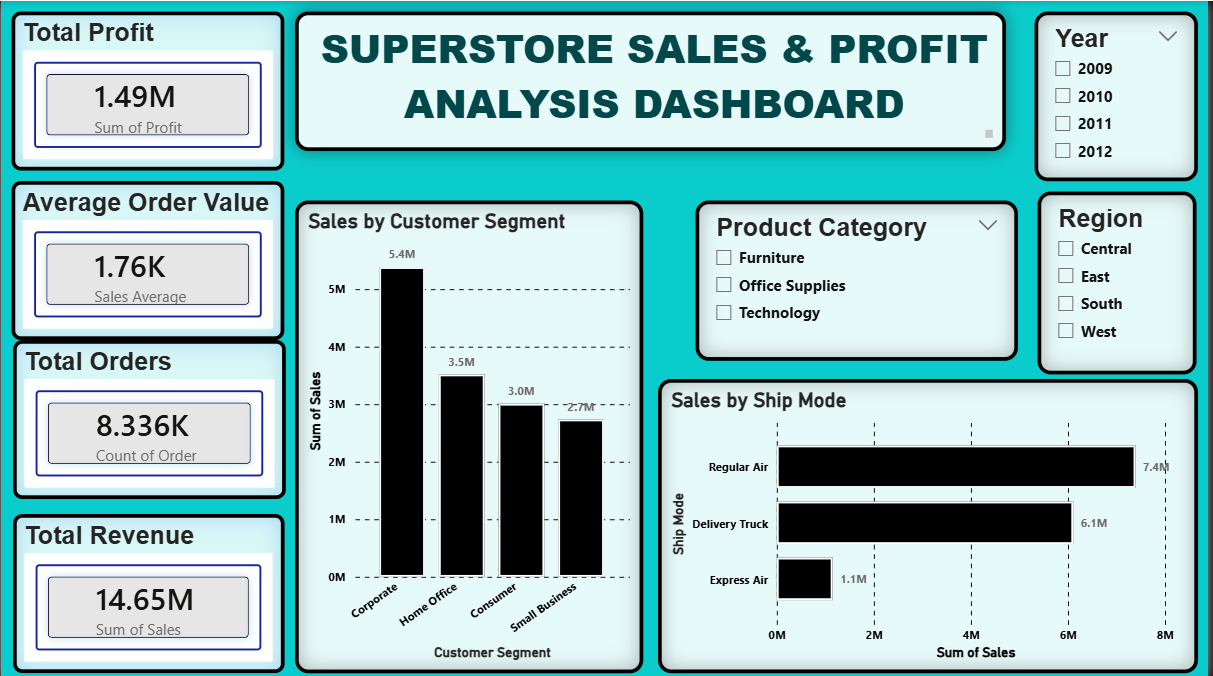

The dashboard page shown, as its layout file describes it:
{"tool":"powerbi","page":{"name":"Overview","canvas":[1280,720],"ordinal":0},"visuals":[{"type":"cardVisual","title":"Total Revenue","fields":{"Data":["Sum(Sample - Superstore Sales (Excel).Sales)"]},"box":[12.7,544,287.9,168.6],"z":0},{"type":"cardVisual","title":"Total Orders","fields":{"Data":["CountNonNull(Sample - Superstore Sales (Excel).Order ID)"]},"box":[12.7,359.5,289.5,168.6],"z":1000},{"type":"cardVisual","title":"Total Profit","fields":{"Data":["Sum(Sample - Superstore Sales (Excel).Profit)"]},"box":[11.1,11.1,289.5,168.6],"z":2000},{"type":"cardVisual","title":"Average Order Value ","fields":{"Data":["Avg(Sample - Superstore Sales (Excel).Sales)"]},"box":[11.1,190.9,289.5,168.6],"z":3000},{"type":"slicer","fields":{"Values":["Sample - Superstore Sales (Excel).Order Date.Variation.Date Hierarchy.Year"]},"box":[1095.9,11.1,173.4,179.7],"z":4000},{"type":"slicer","fields":{"Values":["Sample - Superstore Sales (Excel).Region"]},"box":[1099.1,202,168.6,194.1],"z":5000},{"type":"slicer","fields":{"Values":["Sample - Superstore Sales (Excel).Product Category"]},"box":[736.5,211.6,342,170.2],"z":6000},{"type":"clusteredBarChart","title":"Sales by Ship Mode","fields":{"Y":["Sum(Sample - Superstore Sales (Excel).Sales)"],"Category":["Sample - Superstore Sales (Excel).Ship Mode"]},"box":[696.7,400.8,572.6,311.8],"z":7000},{"type":"clusteredColumnChart","title":" Sales by Customer Segment","fields":{"Category":["Sample - Superstore Sales (Excel).Customer Segment"],"Y":["Sum(Sample - Superstore Sales (Excel).Sales)"]},"box":[311.8,211.6,369,501],"z":8000},{"type":"textbox","title":"SUPERSTORE    SALES & PROFIT ANALYSIS DASHBOARD","box":[311.8,11.1,753.9,147.9],"z":9000}]}

Visuals, with their boxes in screenshot pixels (x1, y1, x2, y2), scaled from the page's 1280x720 canvas onto the 1213x676 screenshot:
"Total Revenue" cardVisual: [x1=12, y1=511, x2=285, y2=669]
"Total Orders" cardVisual: [x1=12, y1=338, x2=286, y2=496]
"Total Profit" cardVisual: [x1=11, y1=10, x2=285, y2=169]
"Average Order Value " cardVisual: [x1=11, y1=179, x2=285, y2=338]
slicer - Sample - Superstore Sales (Excel).Order Date.Variation.Date Hierarchy.Year: [x1=1039, y1=10, x2=1203, y2=179]
slicer - Sample - Superstore Sales (Excel).Region: [x1=1042, y1=190, x2=1201, y2=372]
slicer - Sample - Superstore Sales (Excel).Product Category: [x1=698, y1=199, x2=1022, y2=358]
"Sales by Ship Mode" clusteredBarChart: [x1=660, y1=376, x2=1203, y2=669]
" Sales by Customer Segment" clusteredColumnChart: [x1=295, y1=199, x2=645, y2=669]
"SUPERSTORE    SALES & PROFIT ANALYSIS DASHBOARD" textbox: [x1=295, y1=10, x2=1010, y2=149]
